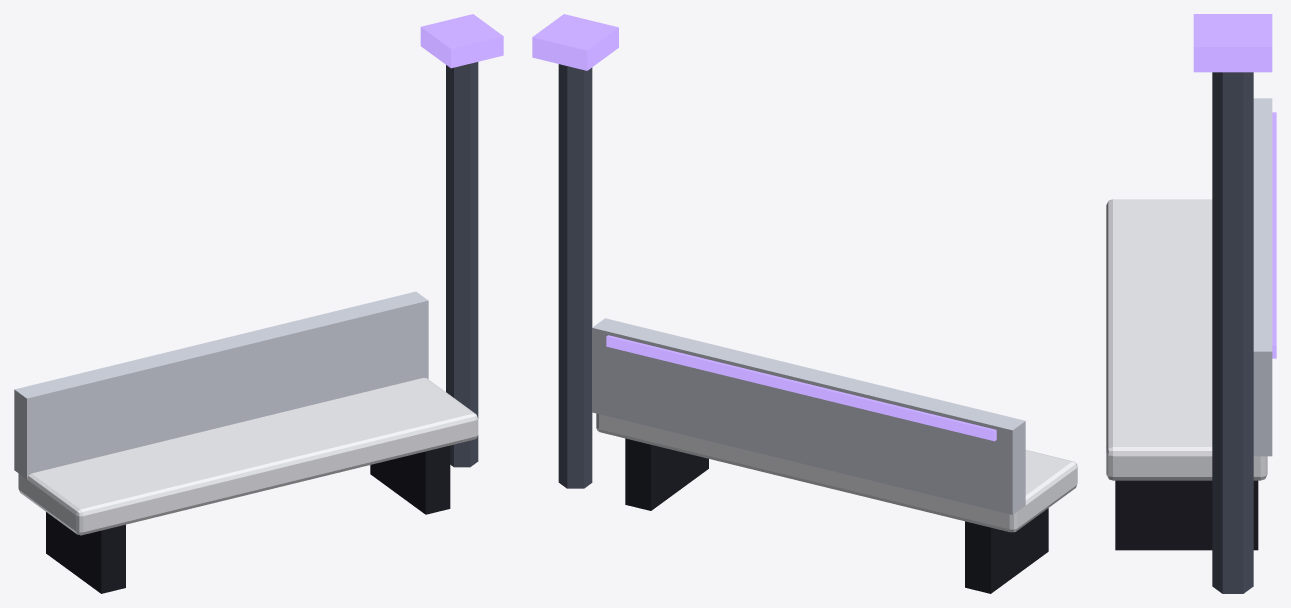
Rendered from city_bench.glb.
3 views of the same model, side by side, from view 1: azimuth 30°, elevation 25°; view 2: azimuth 150°, elevation 25°; view 3: azimuth 270°, elevation 25° (orthographic). The views are drawn at different scales.
Visible parts, largest first — view 1: city_bench; view 2: city_bench; view 3: city_bench.
Part boxes in pixels (bbox=[...]): city_bench: bbox=[14, 14, 503, 593]; city_bench: bbox=[532, 14, 1077, 593]; city_bench: bbox=[1106, 14, 1276, 593].
Size of the model in its own units: 2.97 by 2.66 by 0.74.
